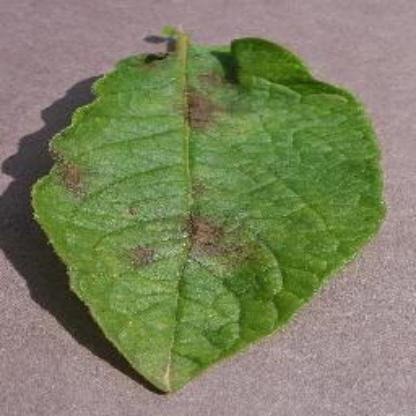Late-Blight: (28, 26, 388, 394)
